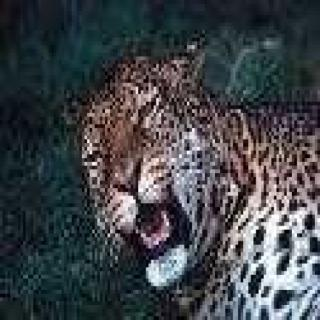Leopard: (77, 41, 320, 320)
